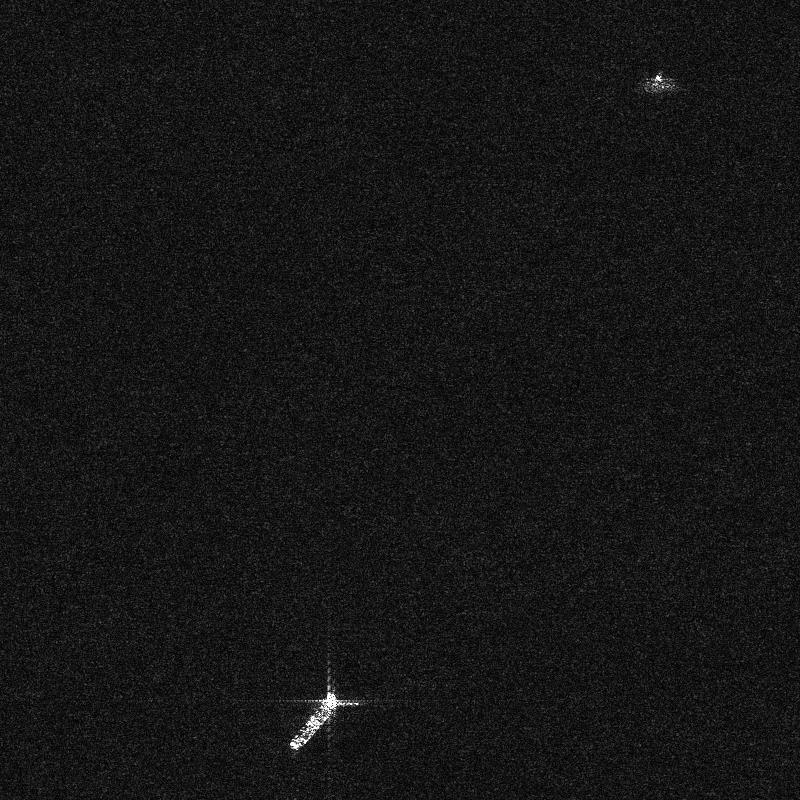ship: (289, 693, 338, 750)
